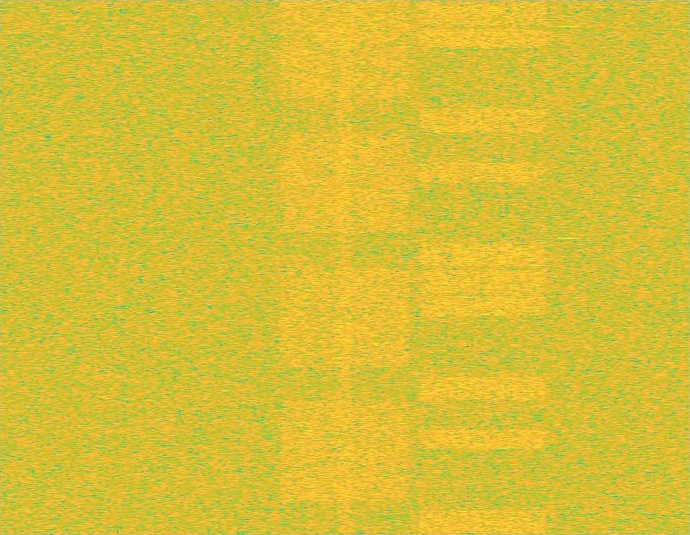5G: (276, 0, 414, 534)
DSSS: (336, 0, 354, 534)
LTE: (414, 0, 552, 534)
Radar: (563, 0, 576, 534)
